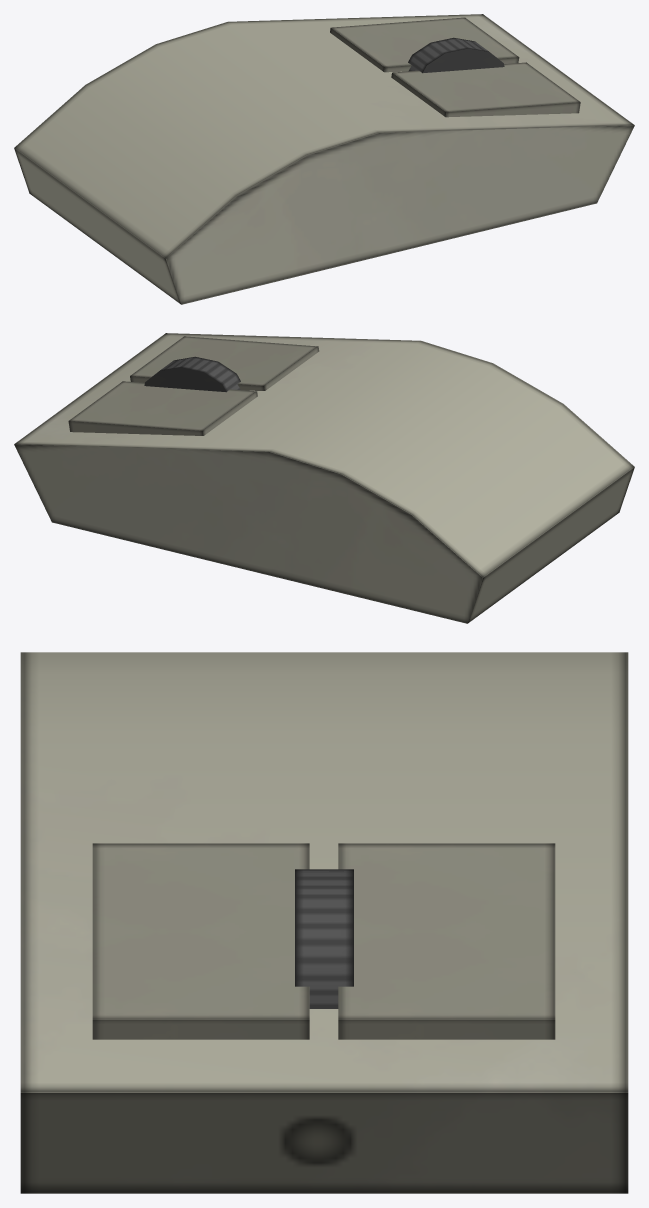
The model's file is mouse.fbx.
3 views of the same model, one above another, from view 1: azimuth 30°, elevation 25°; view 2: azimuth 150°, elevation 25°; view 3: azimuth 270°, elevation 25° (orthographic). The views are drawn at different scales.
Parts seen in each view (by area): view 1: polySurface817; view 2: polySurface817; view 3: polySurface817.
Part boxes in pixels (x1,y1,x2,y2): polySurface817: (14,14,634,304); polySurface817: (14,333,634,623); polySurface817: (20,652,628,1193).
Bounding box in the file's own units: 0.1318 × 0.0332 × 0.0739.
